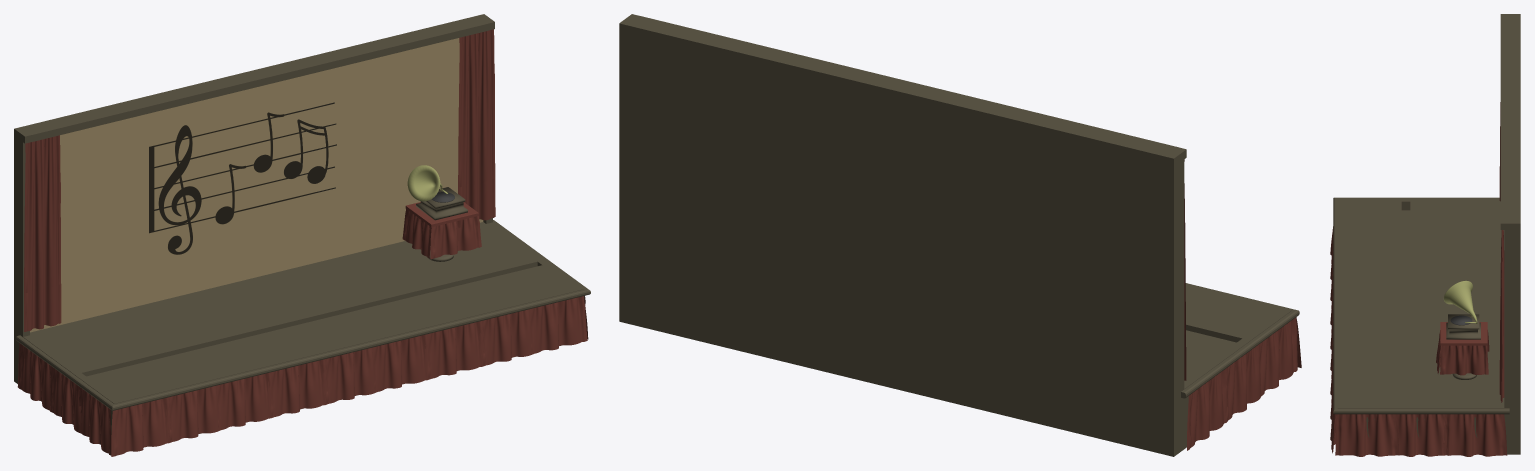
The model's file is Musician.stage.glb.
The picture shows the model from 3 angles, left to right: view 1: azimuth 30°, elevation 25°; view 2: azimuth 150°, elevation 25°; view 3: azimuth 270°, elevation 25°; orthographic projection. The views are drawn at different scales.
Visible parts, largest first — view 1: Stage, Curtain.side.back.007, Curtain.side.back.003, Curtain.side.back.001, music-304709_1280, Curtain.side.back.002, Curtain.side.back.008, Gramo.horn, Curtain.side.back.005, Gramophone, Table; view 2: Stage, Curtain.side.back.002; view 3: Stage, Curtain.side.back.004, Curtain.side.back.006, Curtain.side.back.001, Curtain.side.back.007, Gramo.horn, Gramophone, Table.
Boxes of the visible parts, x1,y1,x2,y2 form: Stage: (14,14,590,447); Curtain.side.back.007: (111,296,587,456); Curtain.side.back.003: (24,135,61,331); Curtain.side.back.001: (458,29,495,220); music-304709_1280: (149,102,336,254); Curtain.side.back.002: (17,343,111,455); Curtain.side.back.008: (430,216,481,259); Gramo.horn: (407,165,448,201); Curtain.side.back.005: (402,209,430,258); Gramophone: (416,187,467,220); Table: (405,202,478,245); Stage: (619,14,1299,456); Curtain.side.back.002: (1187,317,1297,450); Stage: (1333,14,1520,454); Curtain.side.back.004: (1335,414,1507,456); Curtain.side.back.006: (1440,345,1488,375); Curtain.side.back.001: (1499,230,1504,402); Curtain.side.back.007: (1330,226,1337,453); Gramo.horn: (1443,280,1477,323); Gramophone: (1446,314,1480,339); Table: (1440,322,1487,350).
Size of the model in its own units: 10.71 by 5.37 by 4.
7 materials, 1 textured.
